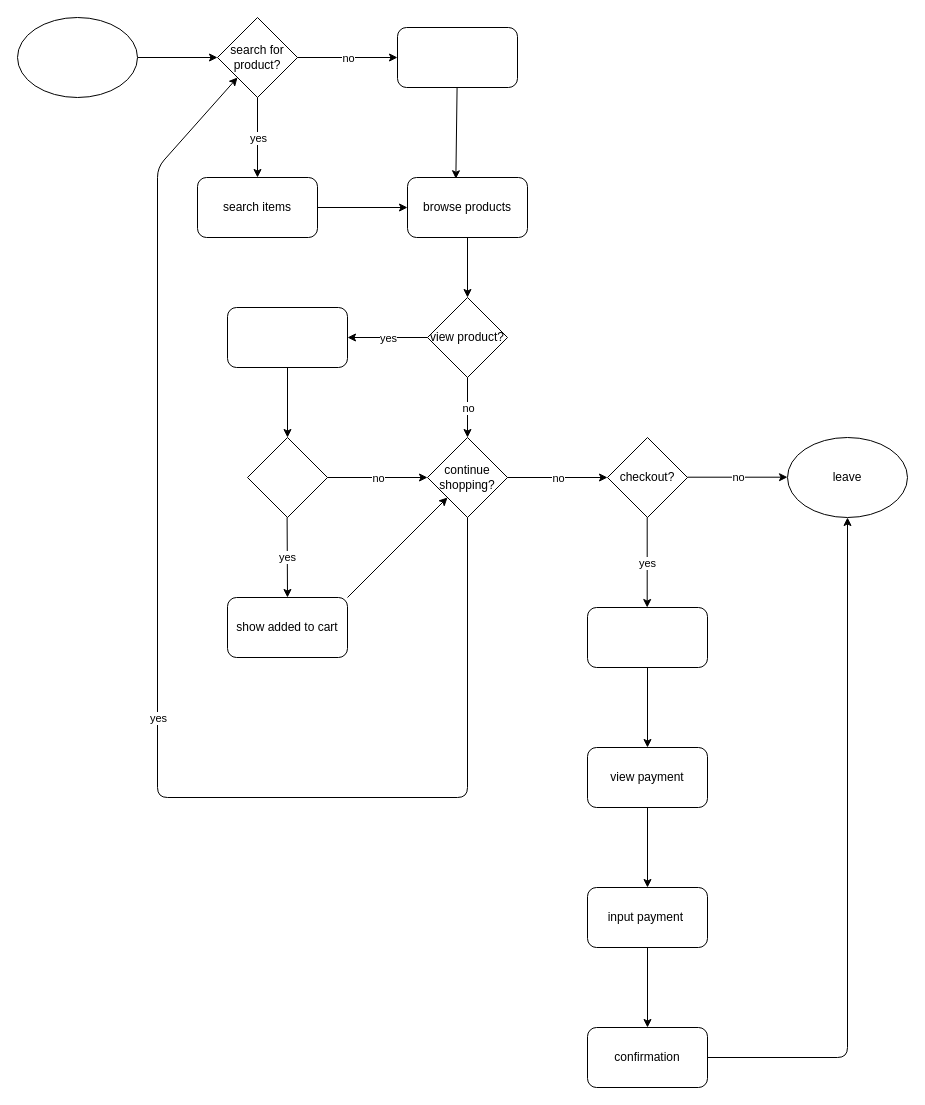
This 925x1105 diagram has some shape labels left out. The shapes that lost their labels are listed below. From the top down, each one's box as (x1, y1, x2, y2) in pixels, then its label:
(16, 16, 138, 98): enter website
(396, 26, 518, 88): browse homepage
(226, 306, 348, 368): open product page
(246, 436, 328, 518): add to cat?
(586, 606, 708, 668): view cart
